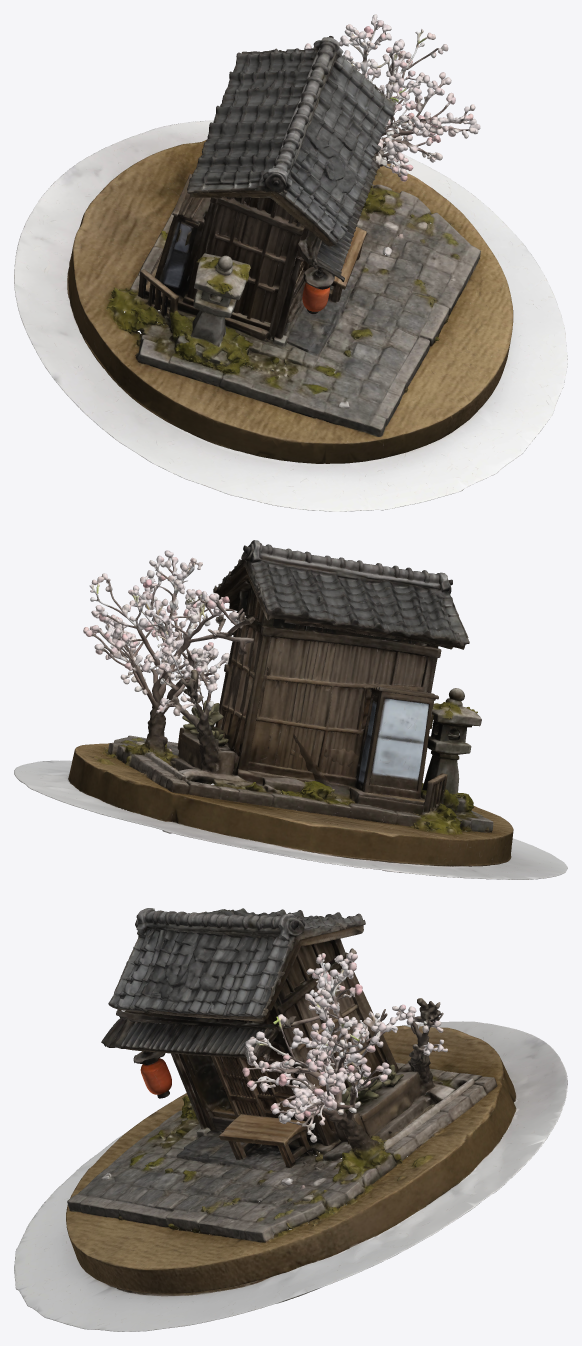
3 views of the same model, one above another, from view 1: azimuth 30°, elevation 25°; view 2: azimuth 150°, elevation 25°; view 3: azimuth 270°, elevation 25° (orthographic). The views are drawn at different scales.
Visible parts, largest first — view 1: mesh_0; view 2: mesh_0; view 3: mesh_0.
Boxes of the visible parts, <box> form: mesh_0: <box>14,14,567,511</box>; mesh_0: <box>14,540,567,879</box>; mesh_0: <box>14,908,567,1331</box>.
Size of the model in its own units: 0.918 by 0.6543 by 0.8766.
1 material, 1 textured.
